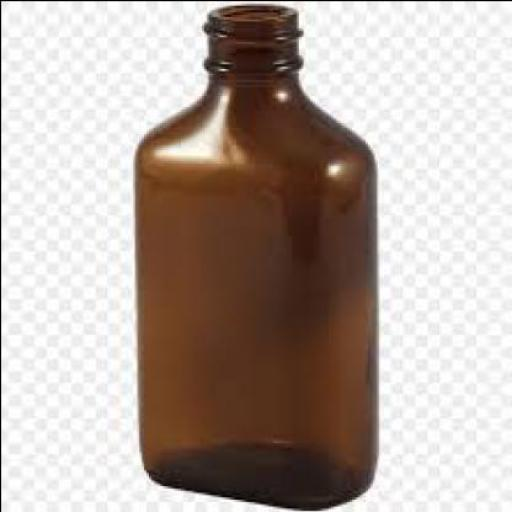glass: (141, 1, 376, 505)
